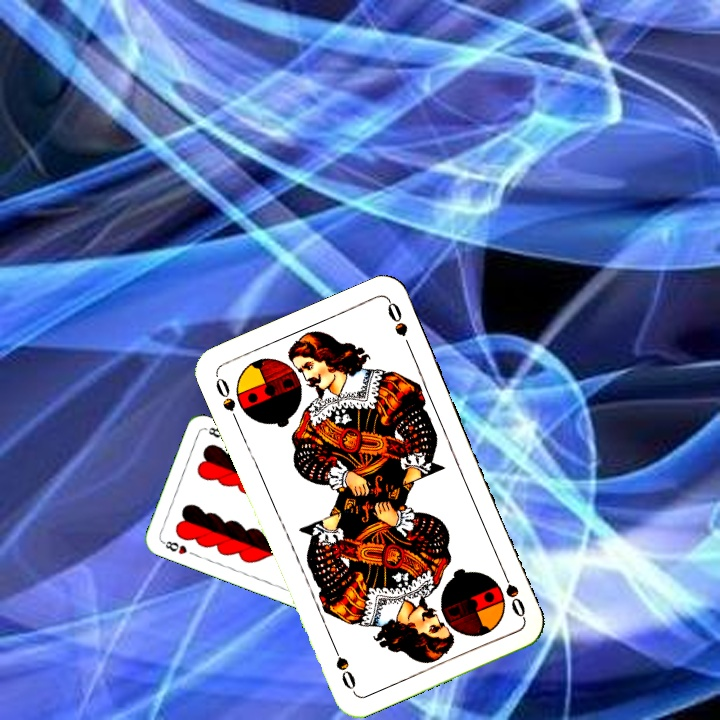H8: (158, 537, 190, 557)
SO: (211, 372, 247, 428), (497, 565, 528, 621)
